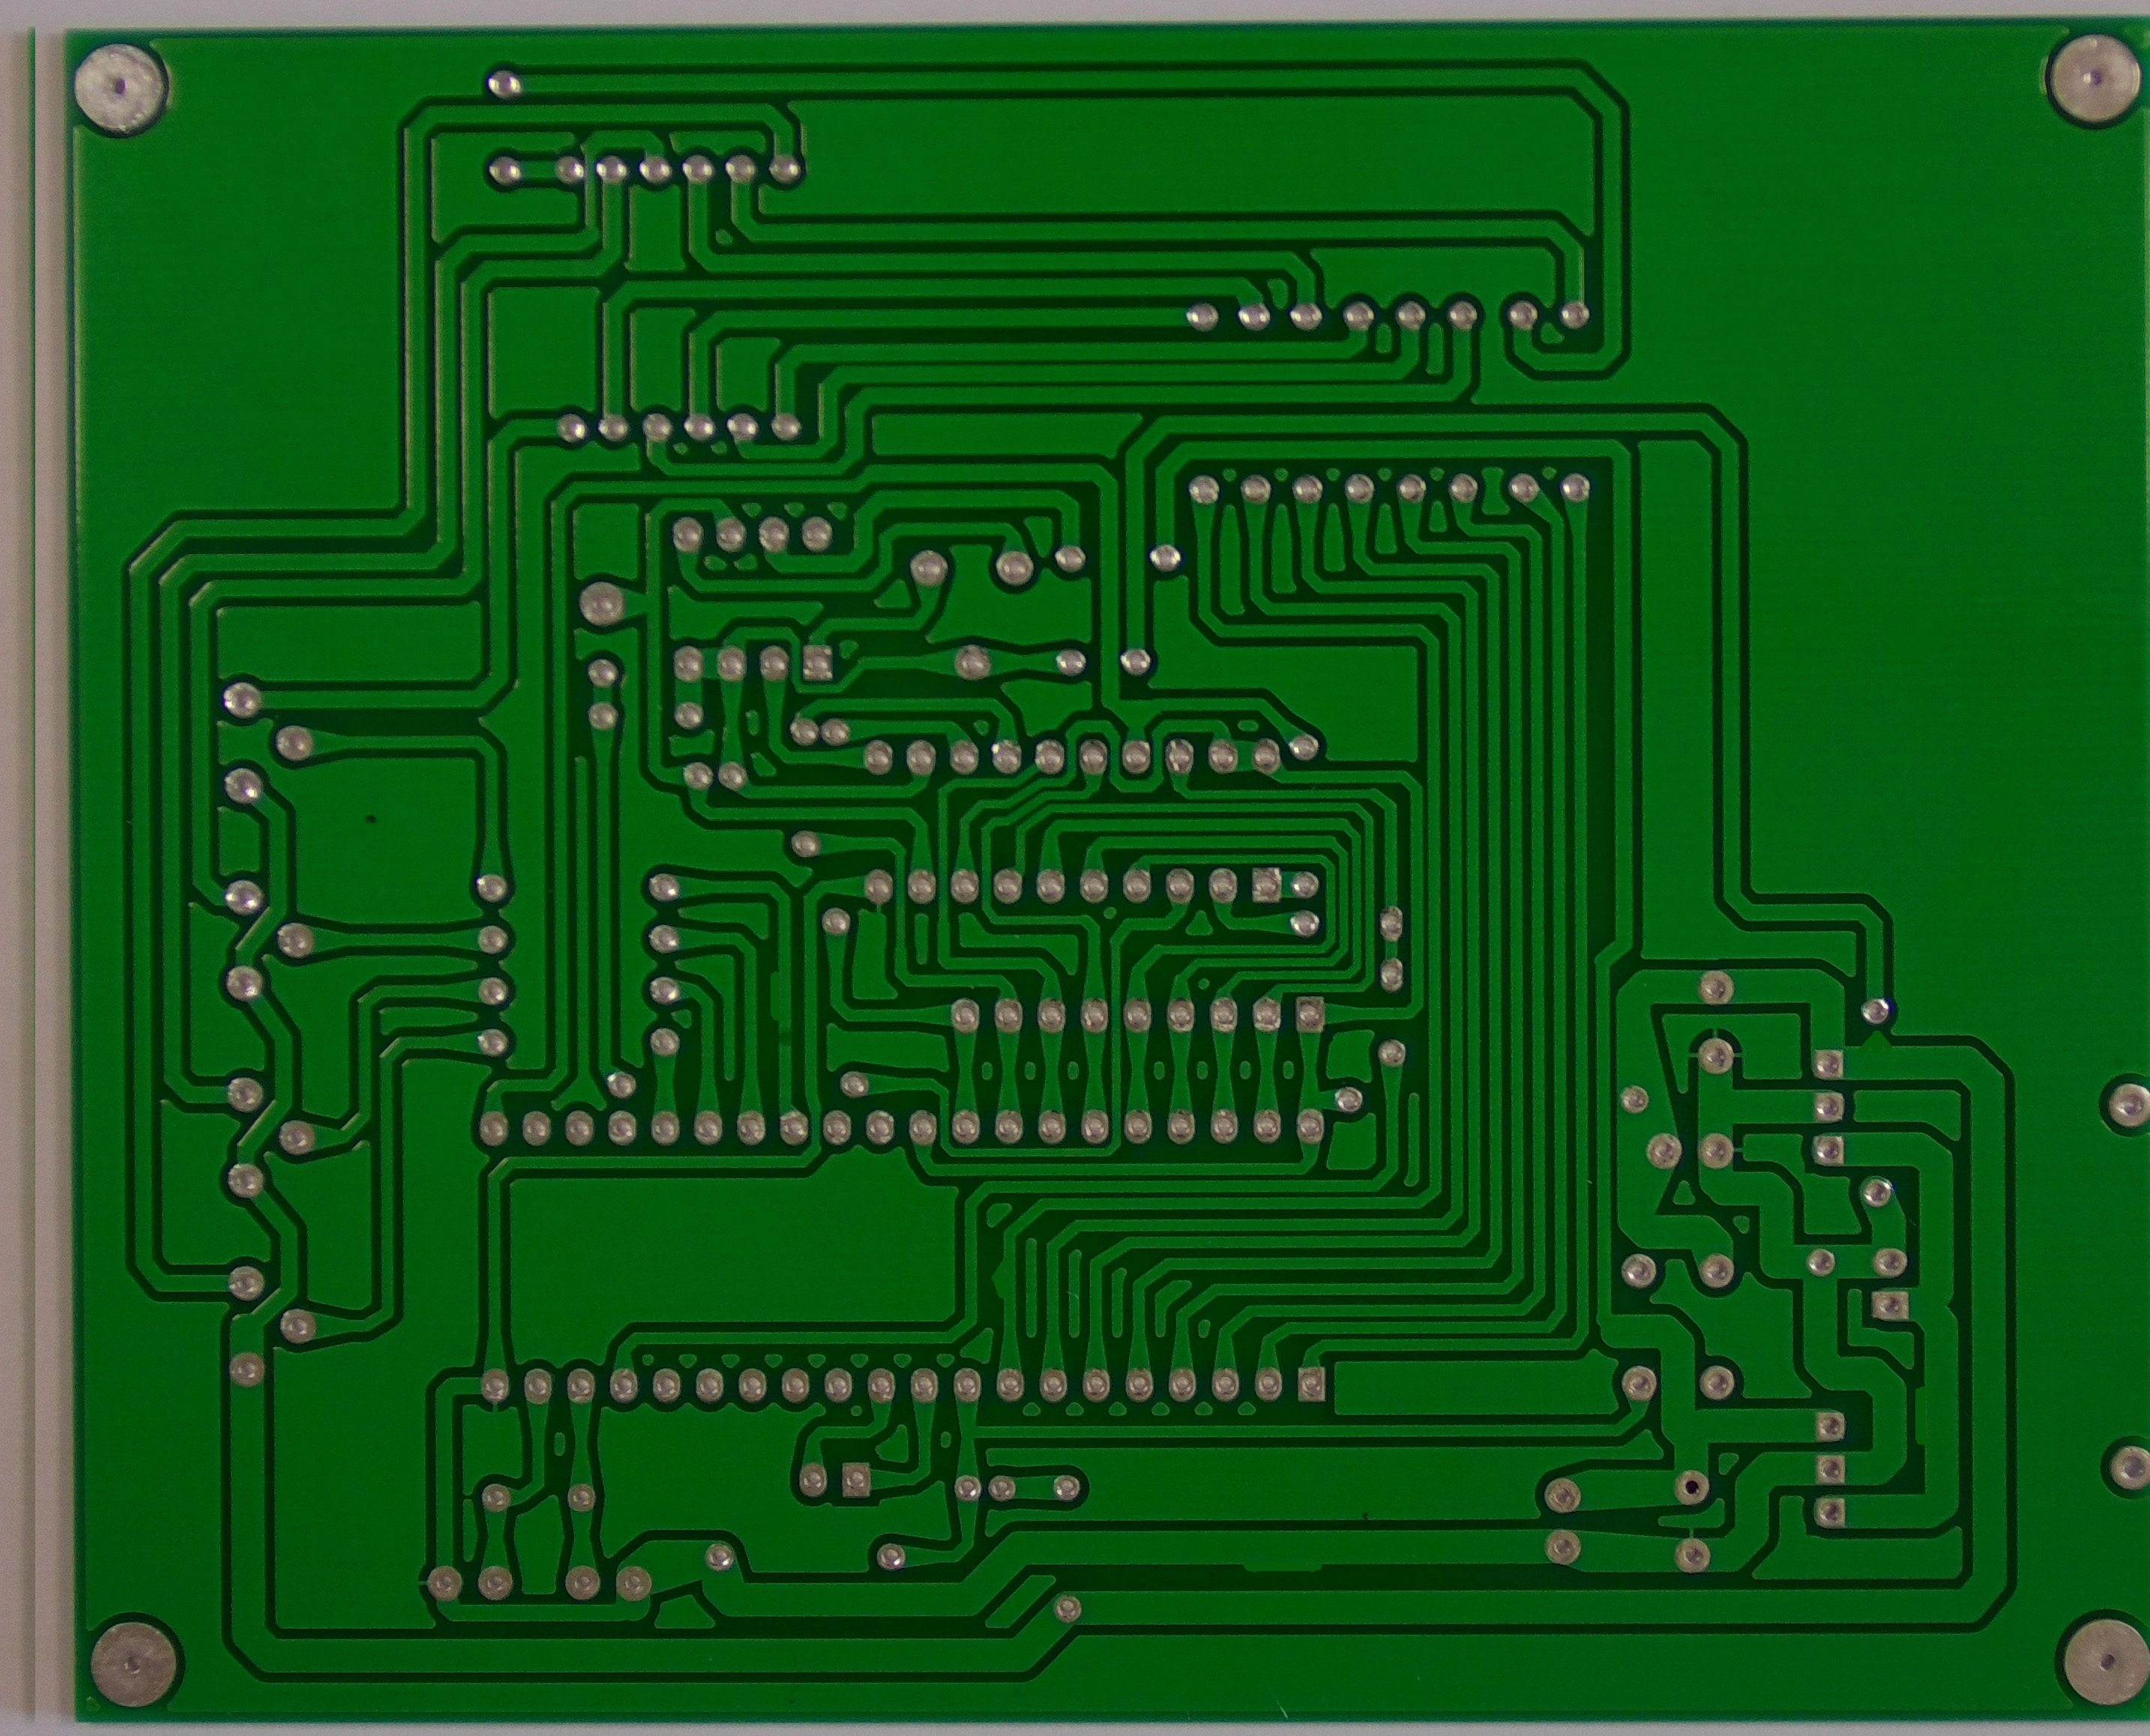spur: (1232, 1537, 1332, 1583), (1902, 1377, 1944, 1456), (978, 1254, 1016, 1307), (763, 956, 790, 1033), (1855, 1022, 1904, 1064)
